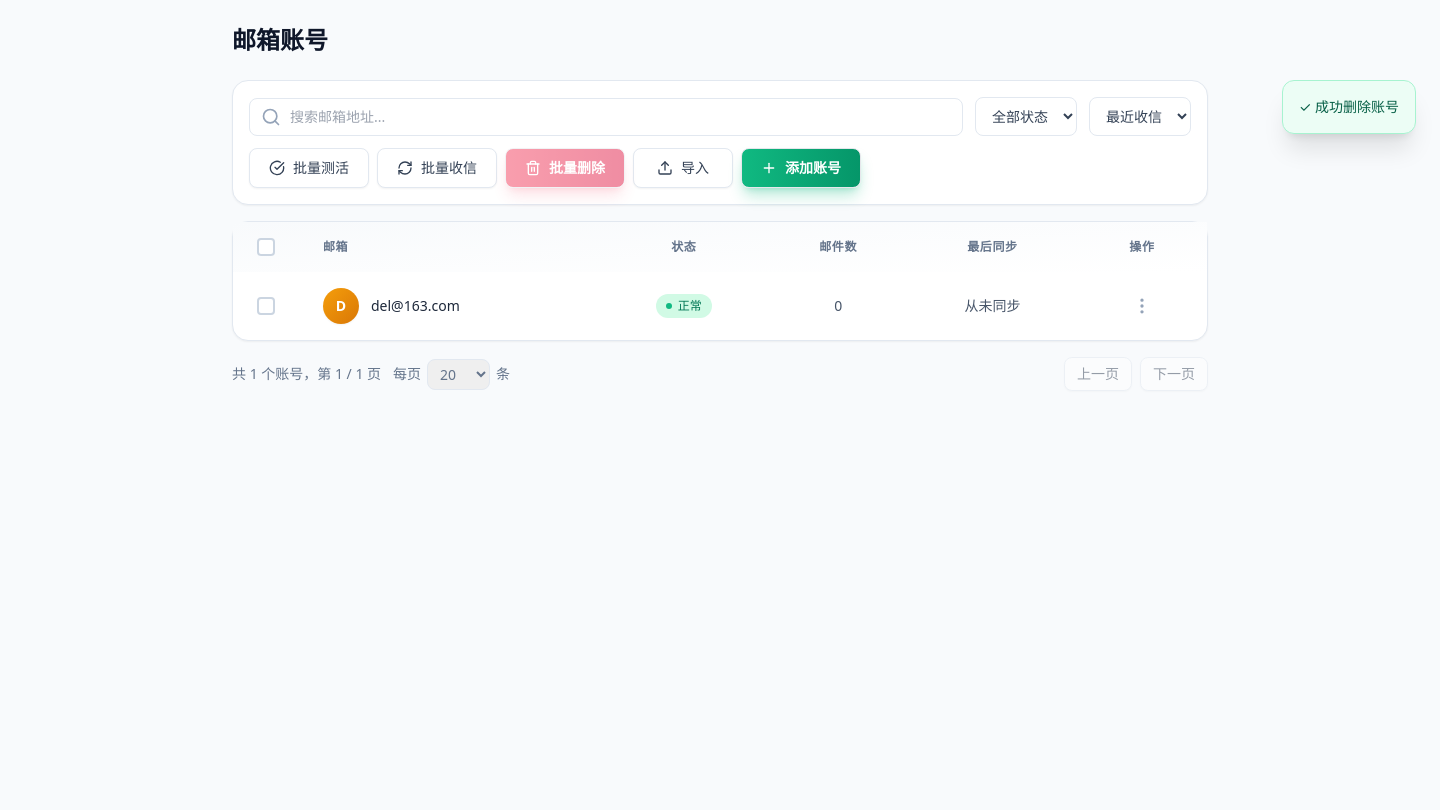
Scenario: AccountsPage › 取消确认时不删除账号
Step 1. Click the button named "更多操作" → point(1142, 306), box [1132,296,1152,316]
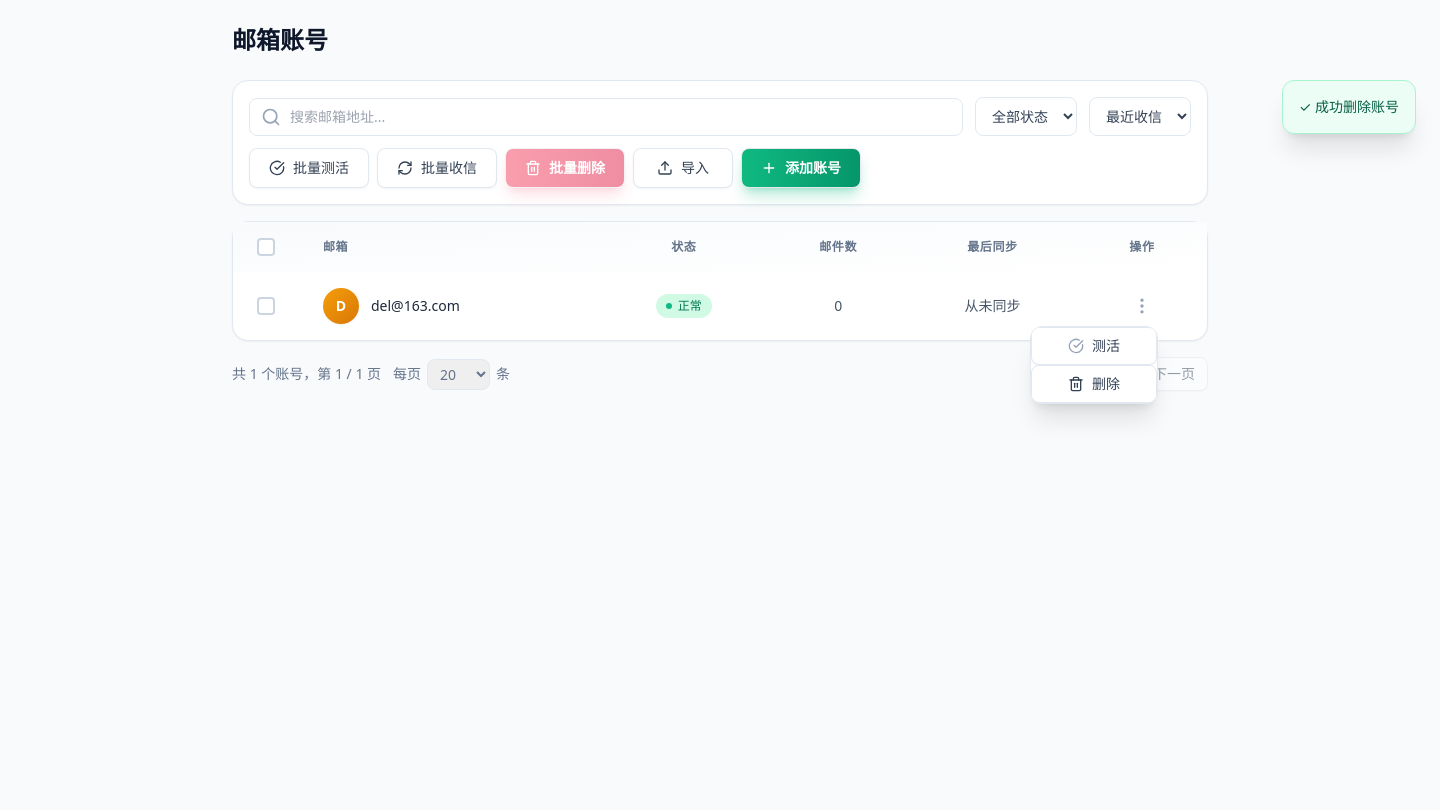
Step 2. Click the menu item "删除" → point(1094, 384), box [1031,365,1157,403]
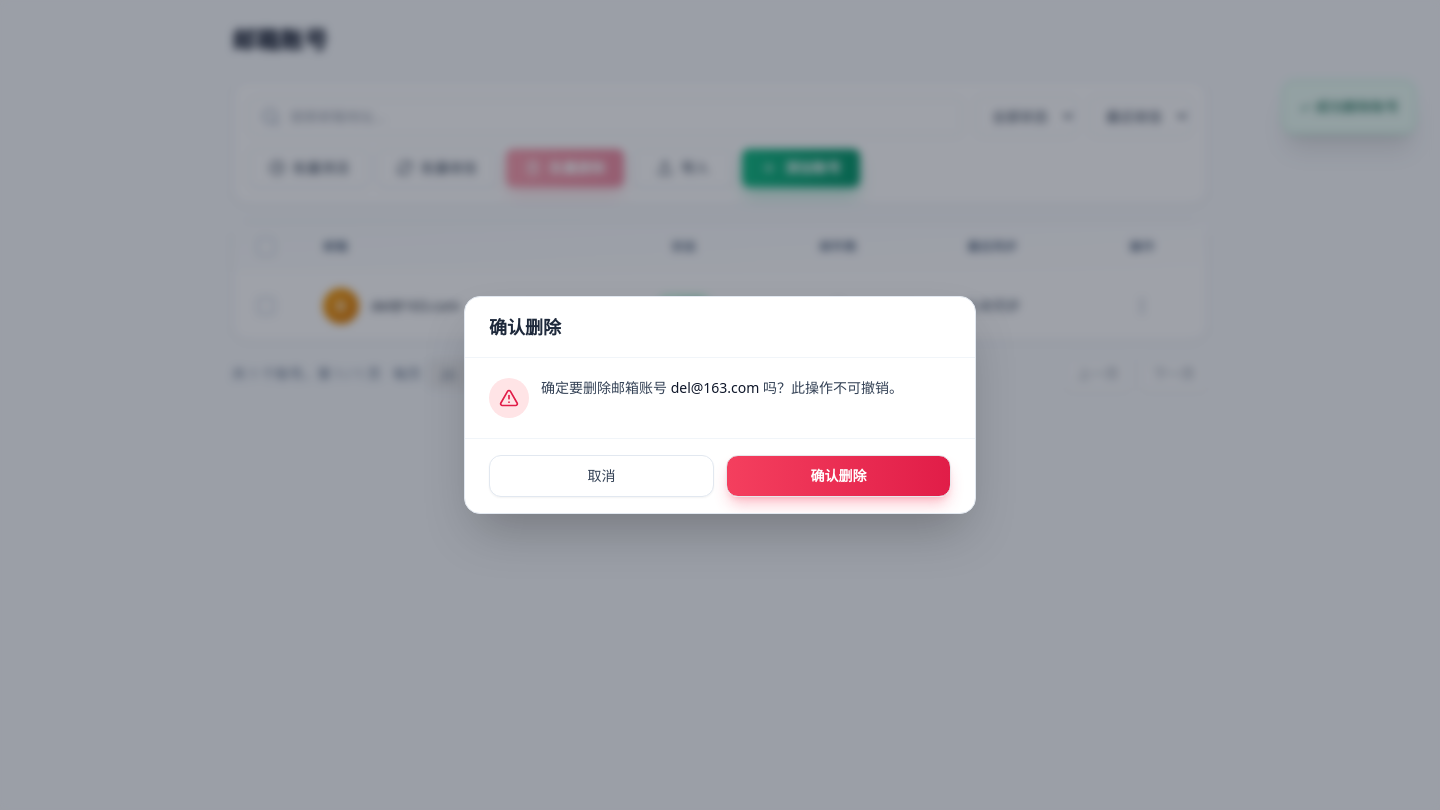
Expected: the heading "确认删除" is shown, [489,313,561,341]
Step 3. Click the button "取消" → point(602, 476), box [489,455,714,497]
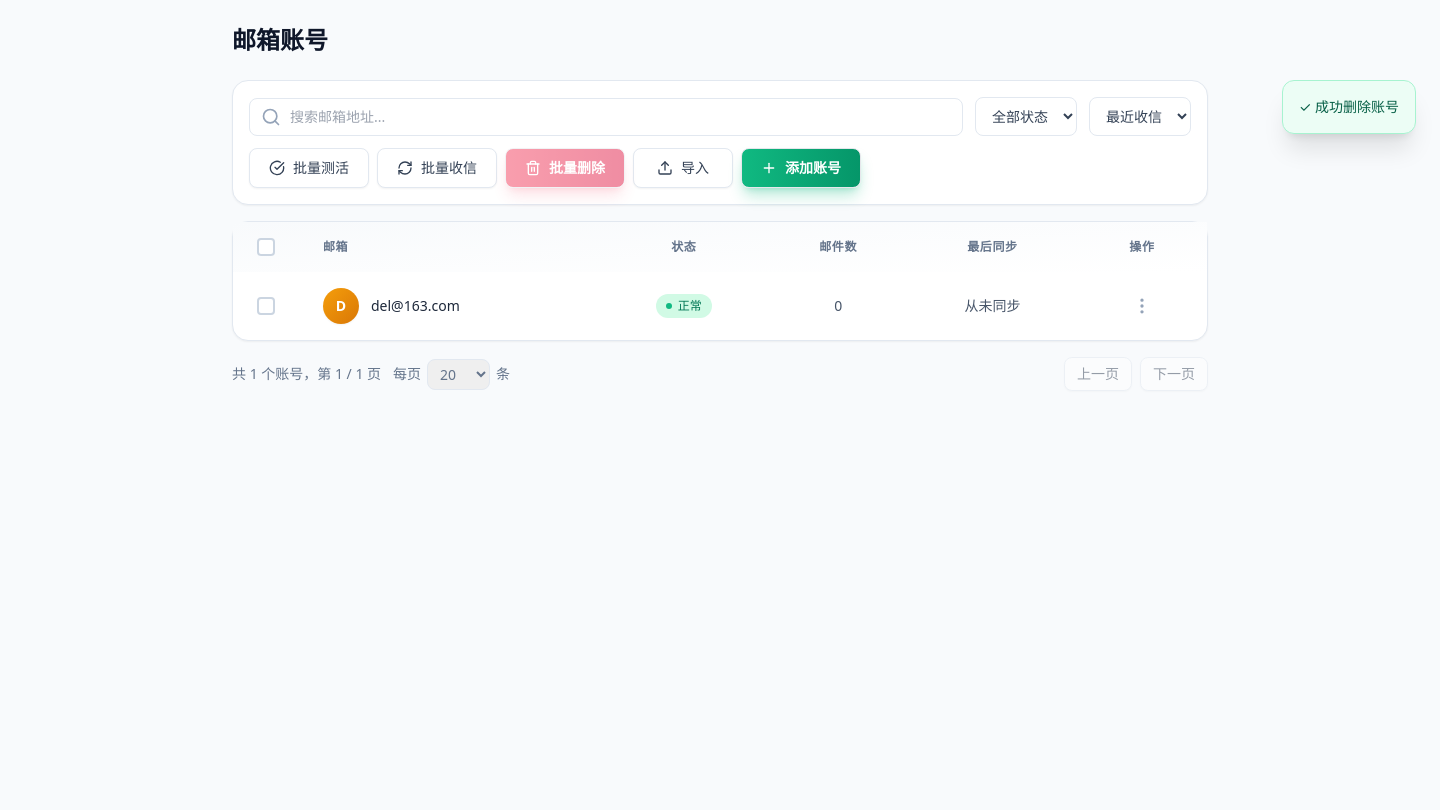
Expected: the heading "确认删除" is gone
